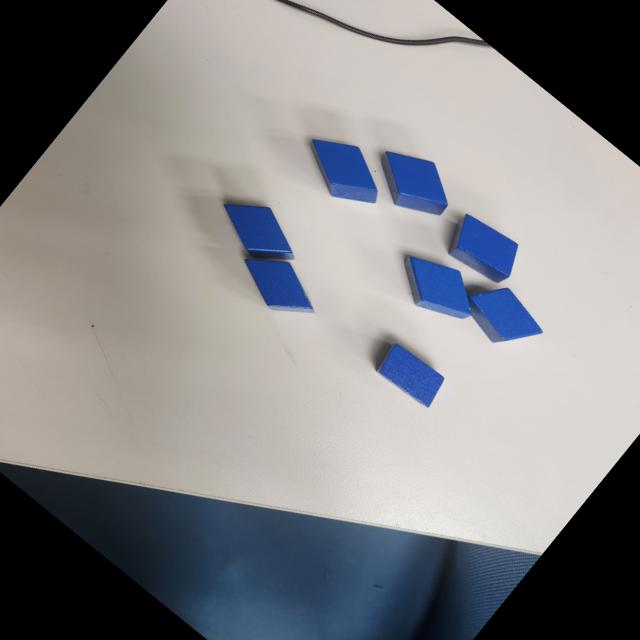blue: (291, 121, 397, 222), (362, 134, 466, 234), (385, 239, 489, 338), (208, 183, 310, 279), (230, 238, 330, 332), (454, 270, 552, 364), (438, 206, 530, 294), (372, 340, 450, 412)
